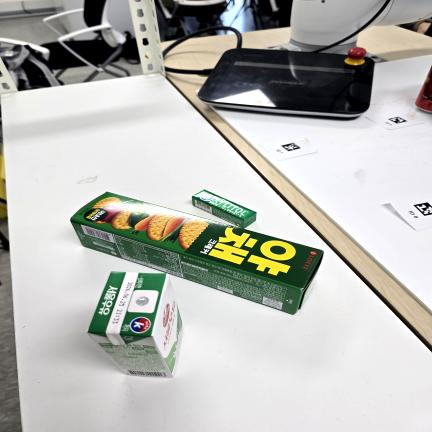cracker_vege: (70, 192, 323, 314)
gum_green: (192, 190, 256, 228)
milk_green: (88, 272, 182, 377)
